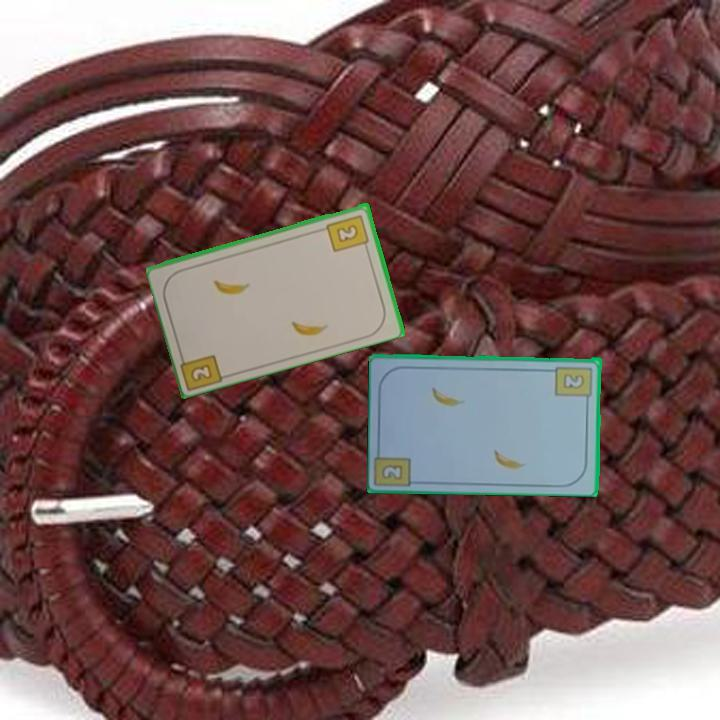2b: (176, 348, 227, 391), (323, 211, 372, 255), (553, 362, 595, 405), (378, 461, 406, 482)
